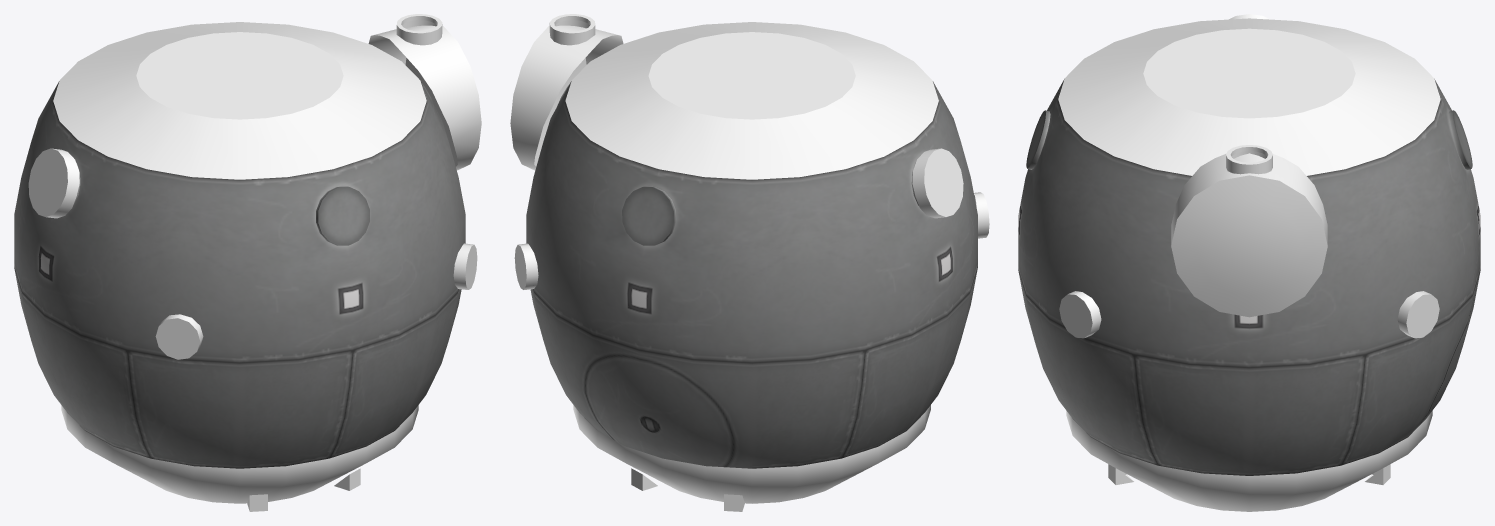
Rendered from tantares_orbital_module_s1_3_interior.obj.
3 views of the same model, side by side, from view 1: azimuth 30°, elevation 25°; view 2: azimuth 150°, elevation 25°; view 3: azimuth 270°, elevation 25° (orthographic). The views are drawn at different scales.
Parts seen in each view (by area): view 1: mesh2, mask; view 2: mesh2, mask; view 3: mesh2, mask.
Part boxes in pixels (box(x1,y1,x2,y2)): mesh2: box(14, 81, 465, 468); mask: box(28, 14, 481, 511); mesh2: box(526, 81, 977, 468); mask: box(510, 14, 989, 511); mesh2: box(1018, 79, 1480, 475); mask: box(1058, 14, 1440, 511).
Bounding box in the file's own units: 1.29 × 1.18 × 1.22.
2 materials, 1 textured.
